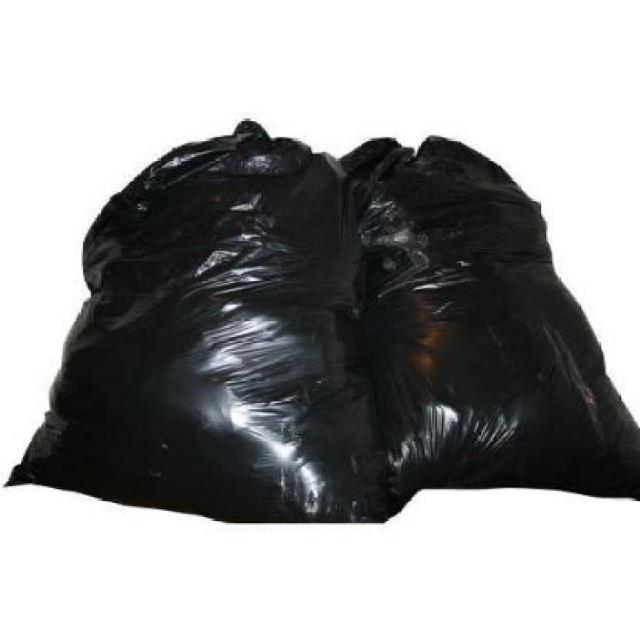garbage: (6, 11, 638, 595)
